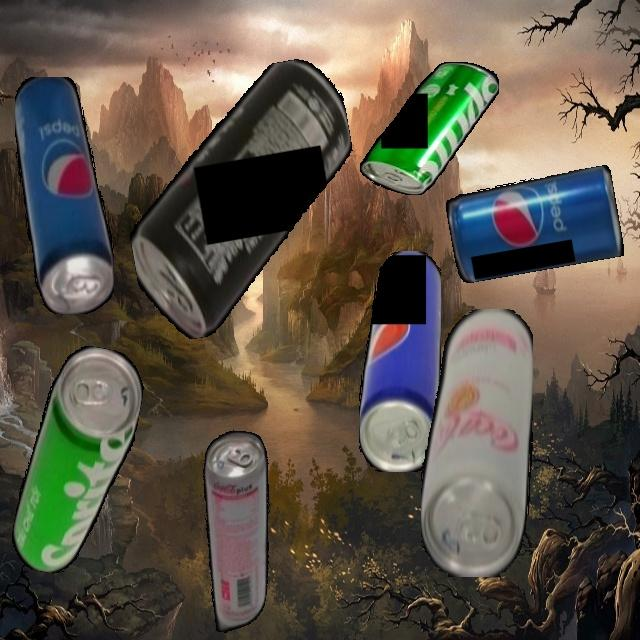debris: (105, 53, 380, 346), (7, 339, 149, 583), (420, 308, 533, 577), (176, 425, 293, 638), (14, 76, 114, 314), (444, 165, 625, 284), (359, 62, 499, 195), (358, 250, 441, 472)
